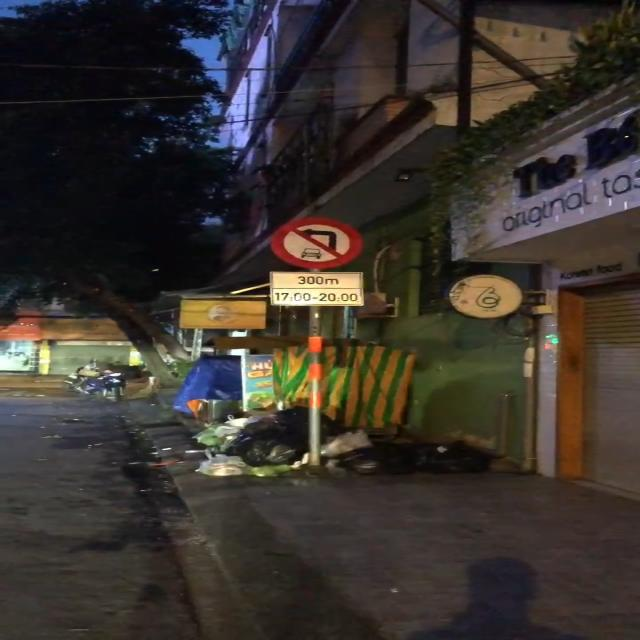Bien bao cam xe o to re trai: (264, 218, 365, 274)
